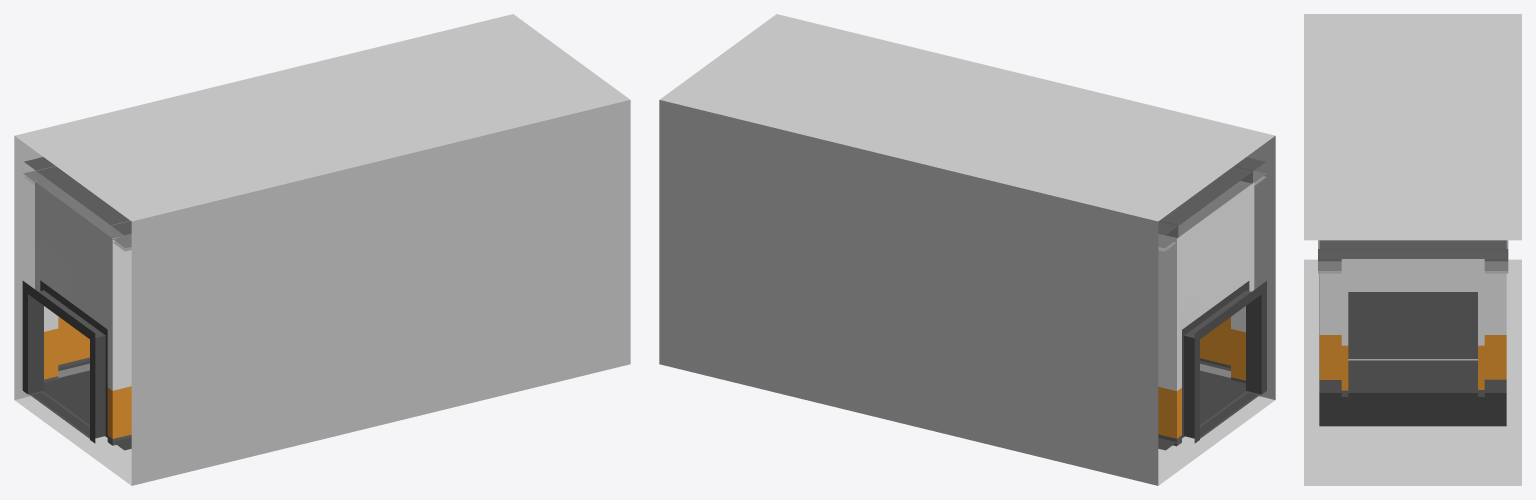
The model's file is SM_H_Building_Tide_Hall_05_ATLAS.fbx.
The picture shows the model from 3 angles, left to right: view 1: azimuth 30°, elevation 25°; view 2: azimuth 150°, elevation 25°; view 3: azimuth 270°, elevation 25°; orthographic projection. The views are drawn at different scales.
Visible parts, largest first — view 1: SM_H_Building_Tide_Hall_05_ATLAS; view 2: SM_H_Building_Tide_Hall_05_ATLAS; view 3: SM_H_Building_Tide_Hall_05_ATLAS.
Part boxes in pixels (x1,y1,x2,y2): SM_H_Building_Tide_Hall_05_ATLAS: (14,14,630,485); SM_H_Building_Tide_Hall_05_ATLAS: (659,14,1275,485); SM_H_Building_Tide_Hall_05_ATLAS: (1304,14,1521,485).
Bounding box in the file's own units: 1265 × 501 × 623.
